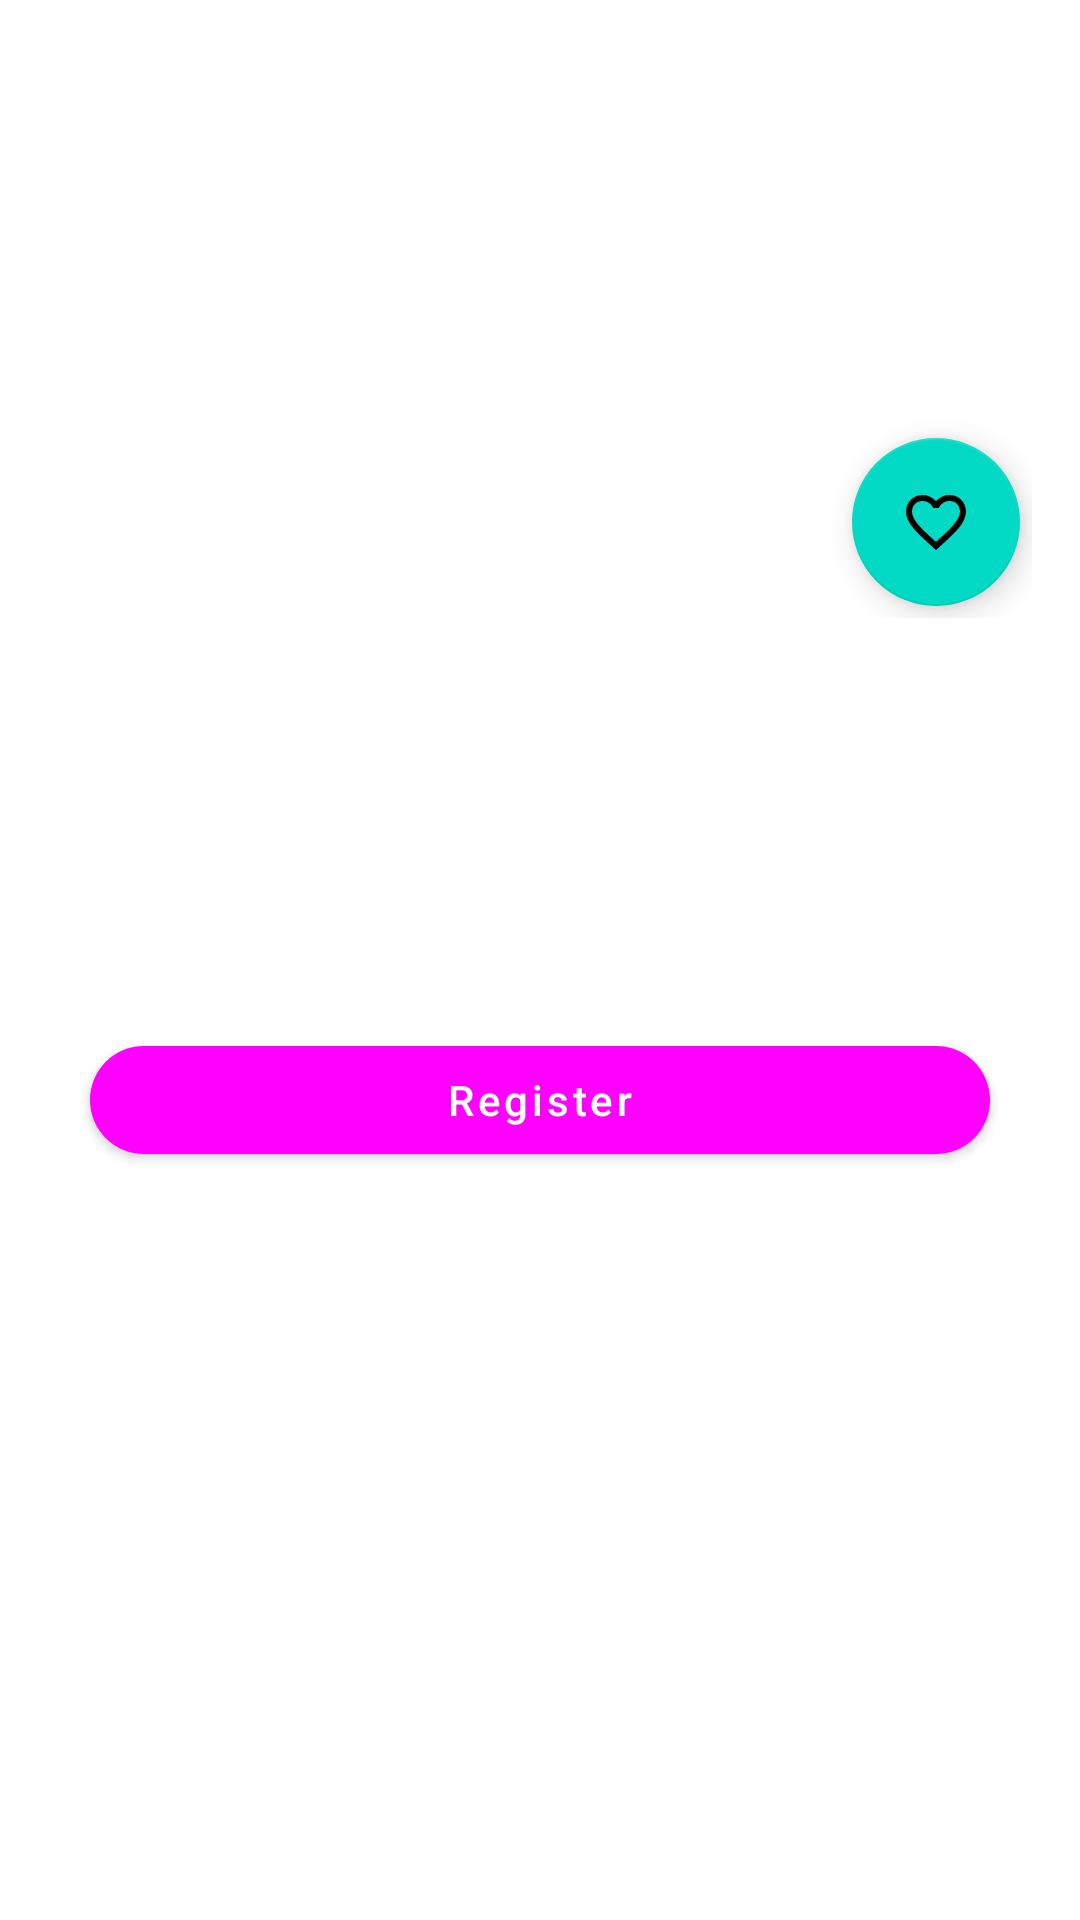

Where to tap for icons on this 1080*1920 app screen, as [x,y]:
Favorite: [936,522]
